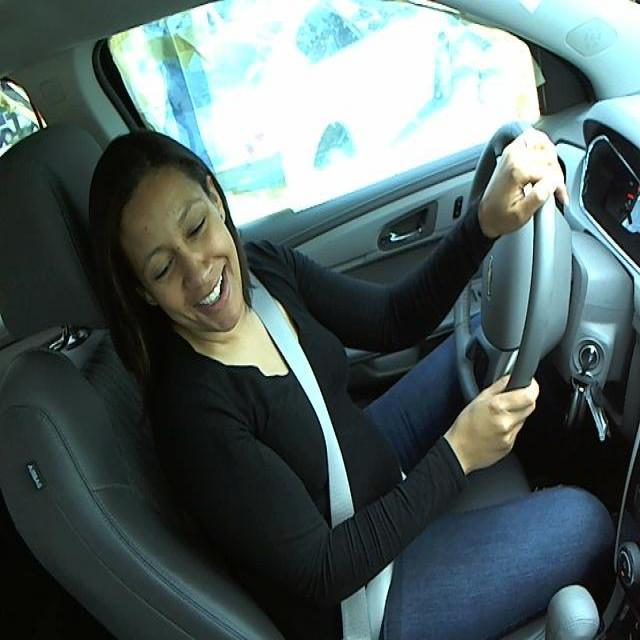seatbelt: (249, 291, 383, 628)
